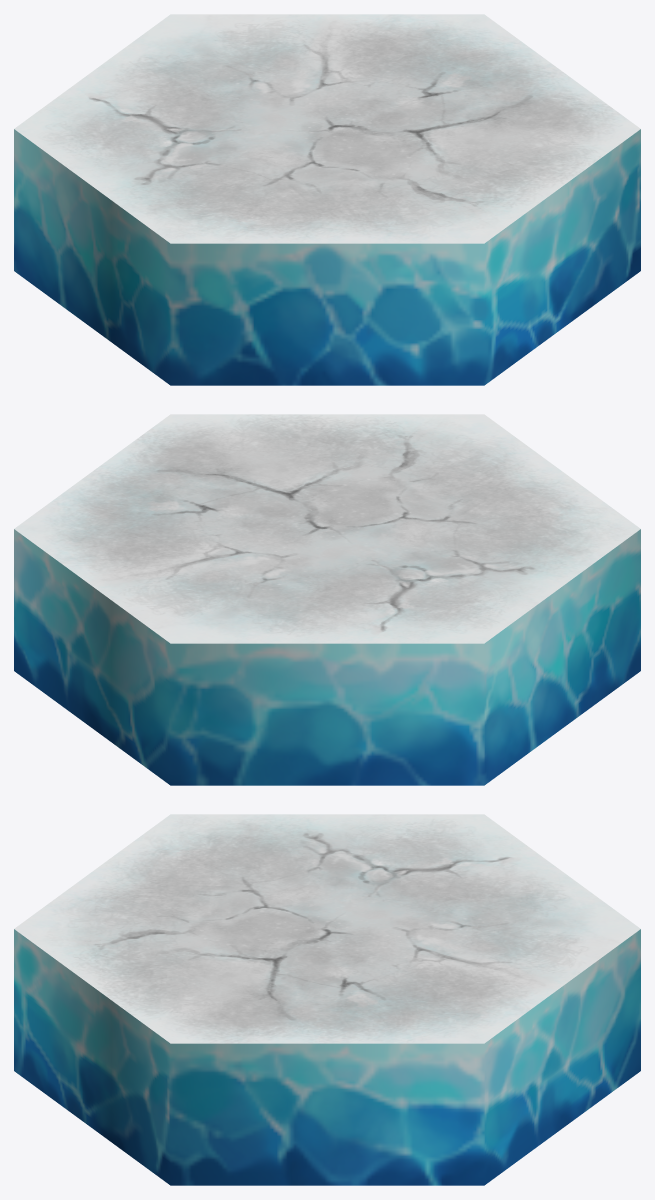
The model's file is Hexagon_IceLand_03_001.FBX.
The picture shows the model from 3 angles, top to bottom: view 1: azimuth 30°, elevation 25°; view 2: azimuth 150°, elevation 25°; view 3: azimuth 270°, elevation 25°; orthographic projection.
Parts seen in each view (by area): view 1: Hexagon_IceLand_03_001; view 2: Hexagon_IceLand_03_001; view 3: Hexagon_IceLand_03_001.
Boxes of the visible parts, x1=… form: Hexagon_IceLand_03_001: x1=14, y1=14, x2=640, y2=385; Hexagon_IceLand_03_001: x1=14, y1=414, x2=640, y2=785; Hexagon_IceLand_03_001: x1=14, y1=814, x2=640, y2=1185.
Size of the model in its own units: 6.93 by 2 by 8.
